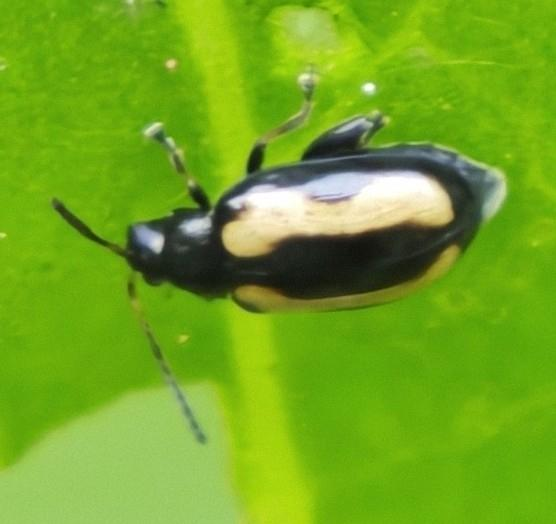flea_beetle: (2, 53, 546, 458)
